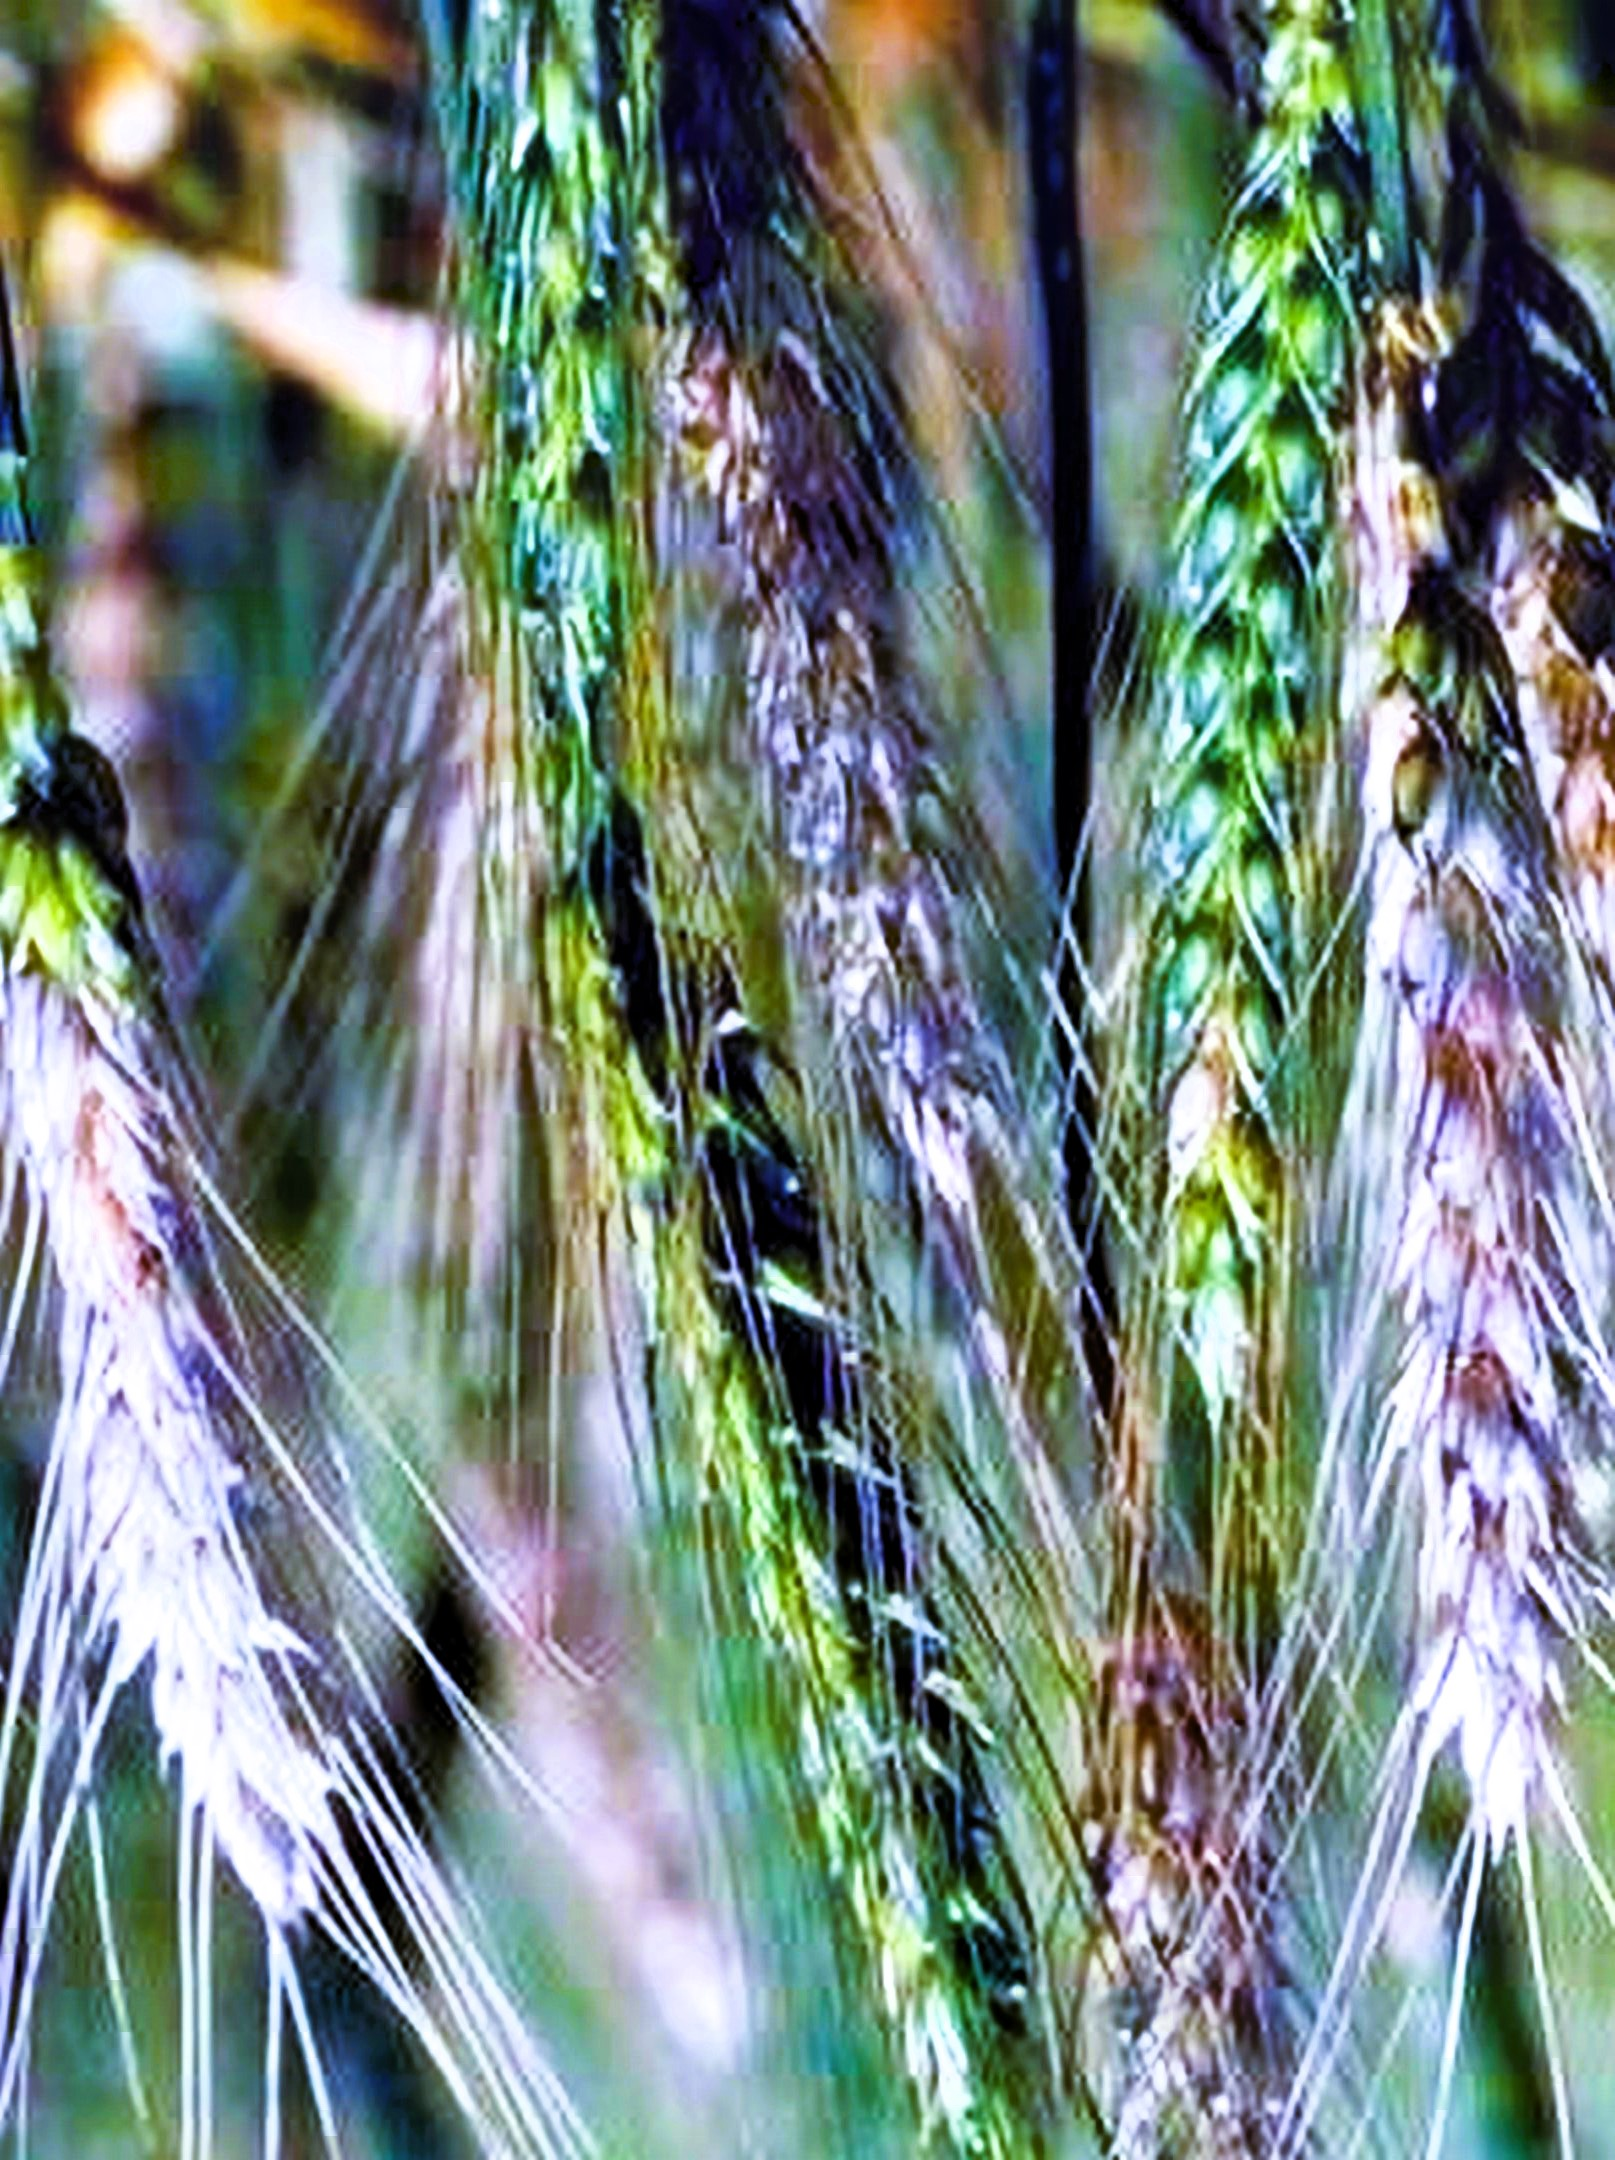Wheat scab: (2, 719, 390, 1849)
